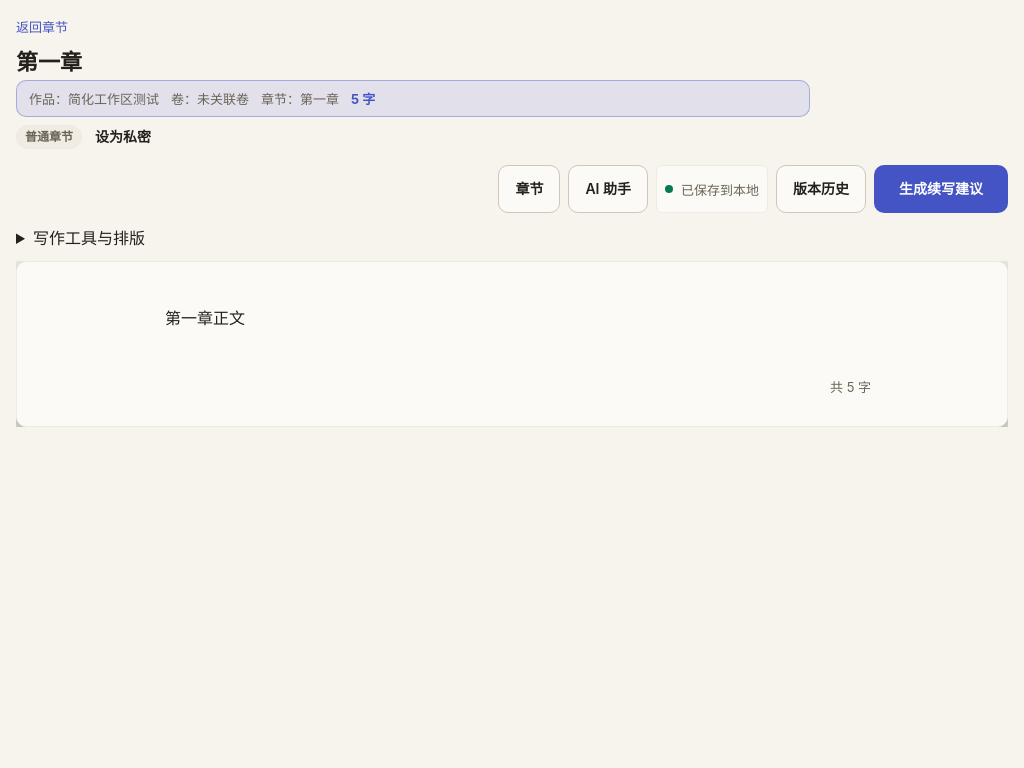
it: simplified editor workspace › uses the drawer breakpoint without exposing the desktop resize separator
Expected: the text box named "章节正文" is shown, [153,293,871,373]
Click the button "AI 助手" at (608, 189), box [568,165,648,213]
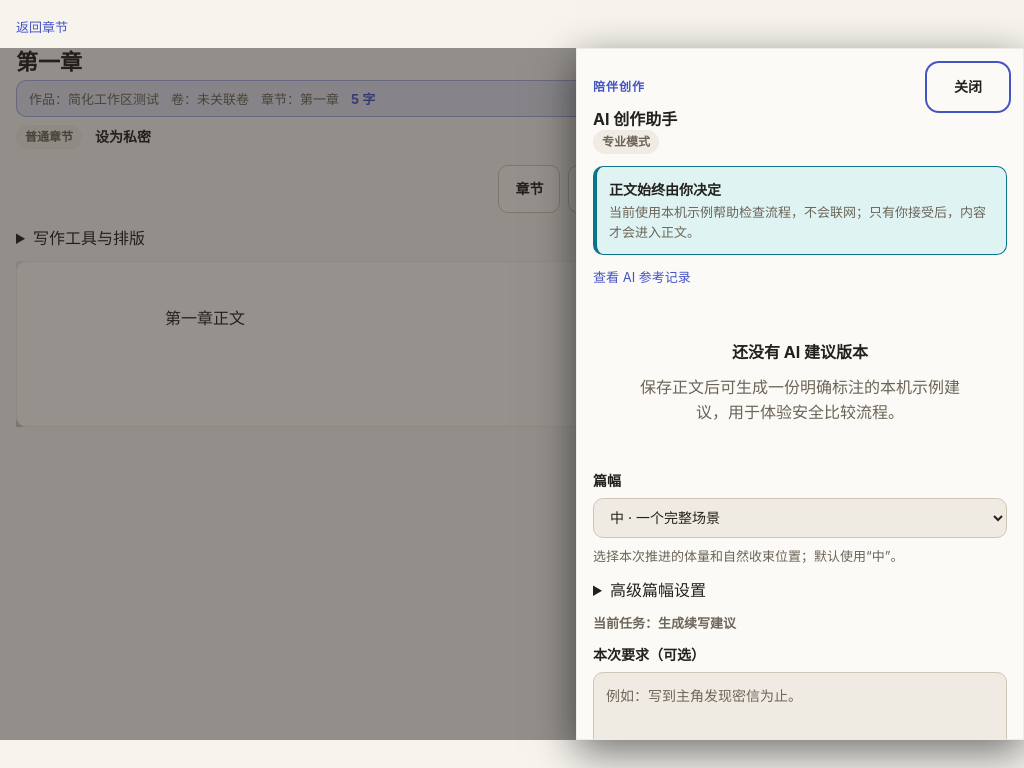
Expected: the dialog "AI 创作助手" is shown, [576,48,1023,740]
